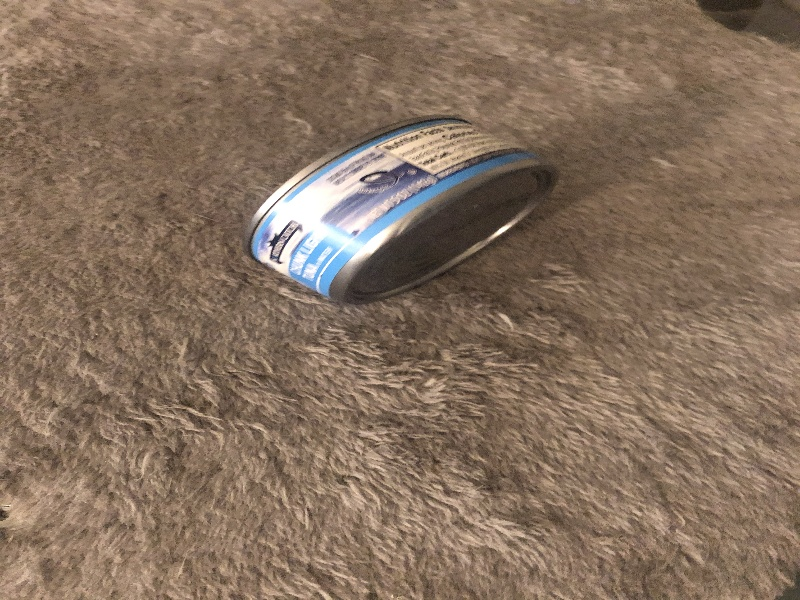metal: (230, 113, 559, 311)
